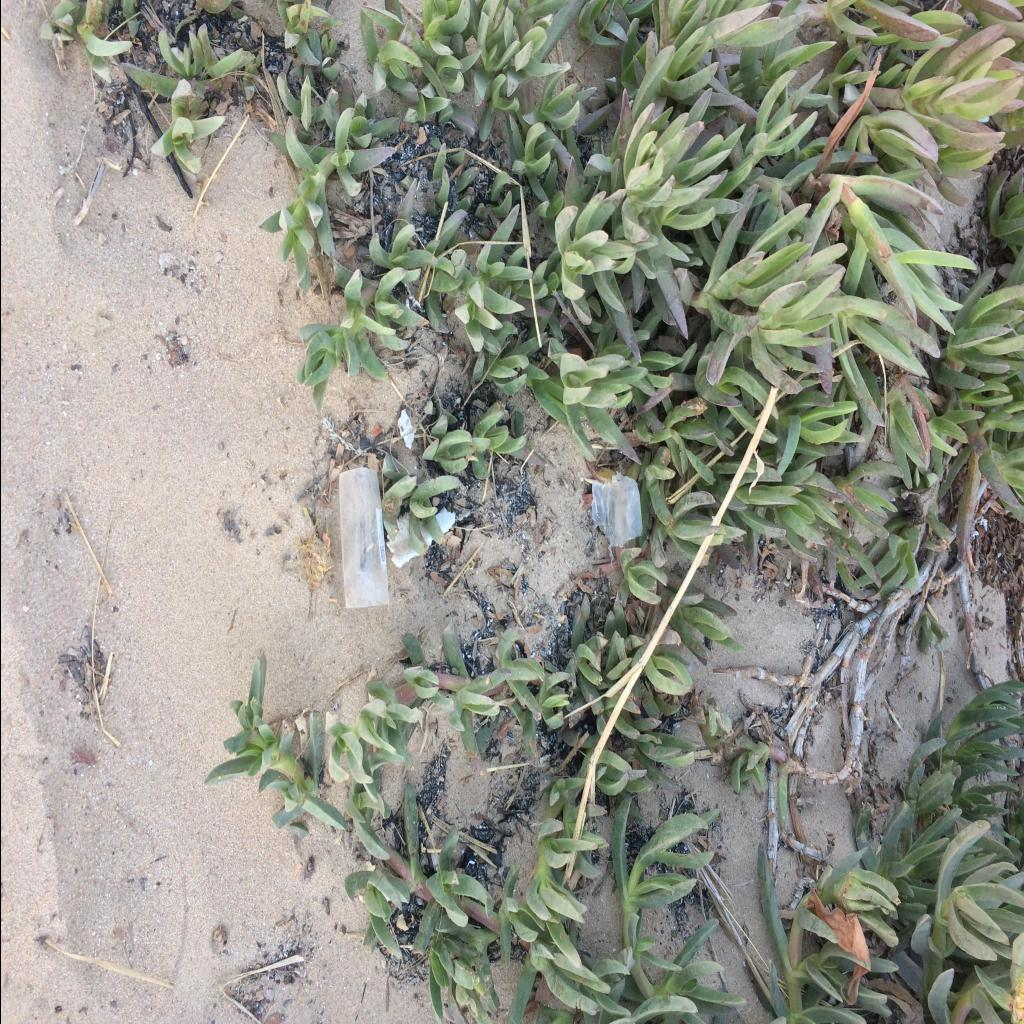Plastic film: (338, 468, 388, 608), (585, 472, 641, 562)
Styrofoam piece: (386, 508, 454, 568), (396, 410, 414, 450)
